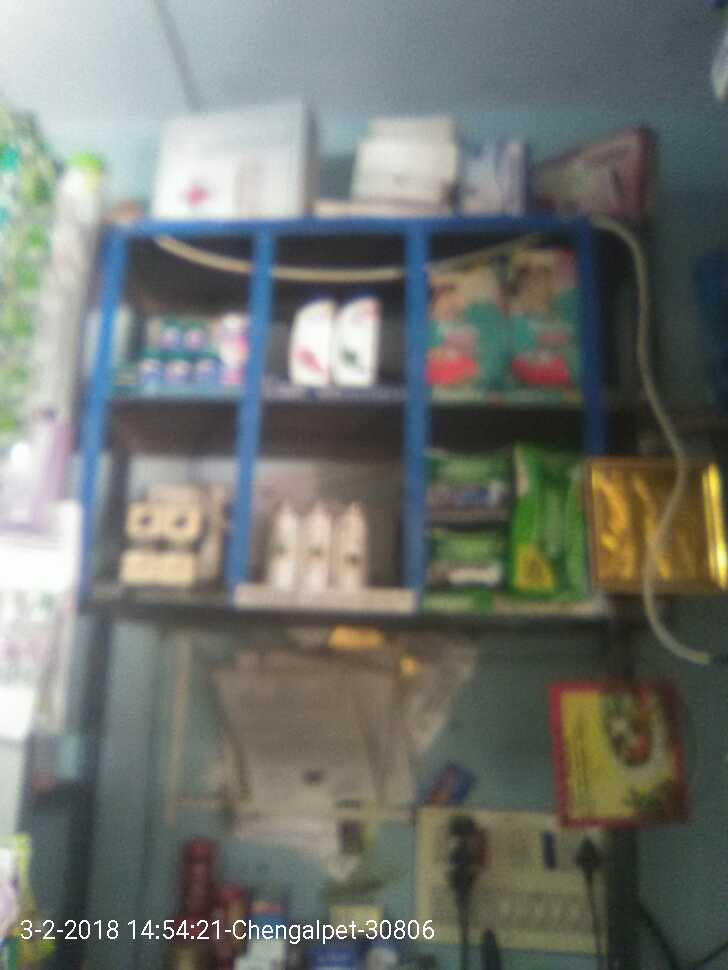vicks: (138, 308, 247, 388)
